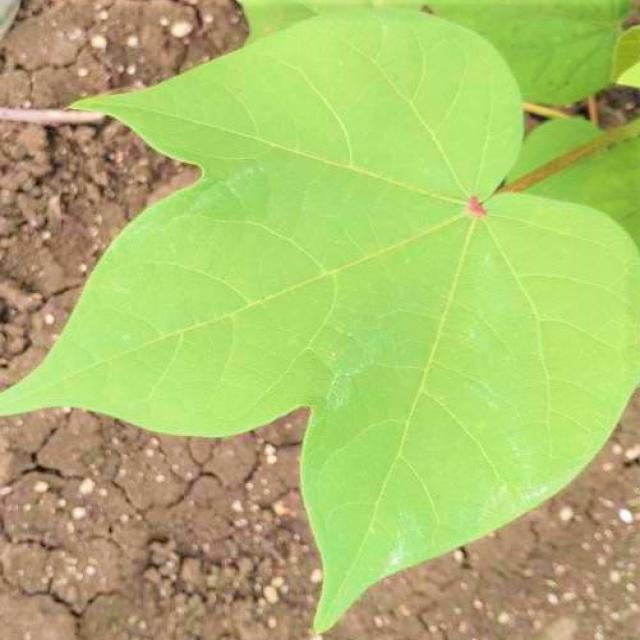Healthy Leaf: (33, 28, 640, 640)
